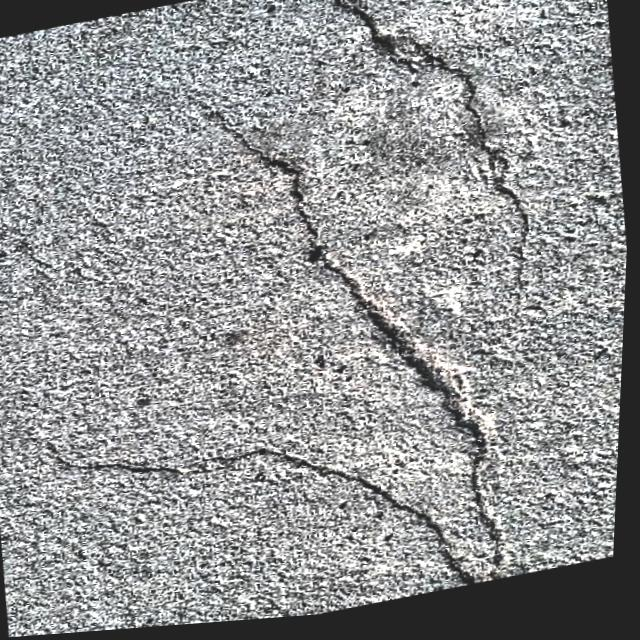cracks: (300, 186, 502, 591), (85, 459, 471, 608), (340, 0, 494, 218)
